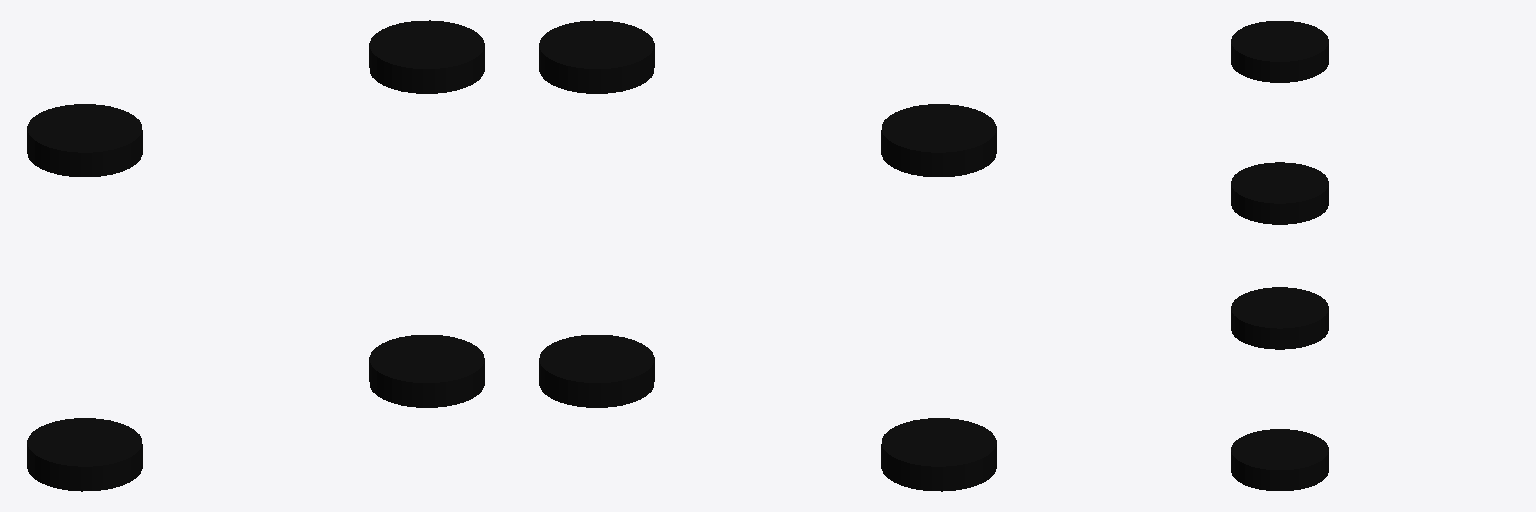
URDF robot description (only_mobile):
<?xml version="1.0"?>
<robot name="only_mobile">
  <link name="base_mobile">
    <inertial>
      <origin xyz="-0.029734 4.7404E-06 -0.49328" rpy="0 0 0"/>
      <mass value="770.04"/>
      <inertia ixx="44.031" ixy="-0.0029331" ixz="-4.071E-10" iyy="144.4" iyz="1.043E-05" izz="134.59"/>
    </inertial>
    <visual>
      <origin xyz="0 0 0" rpy="3.14159265359 0 0"/>
      <geometry>
        <mesh filename="../meshes/base_mobile.STL"/>
      </geometry>
      <material name="mobile_material_0">
        <color rgba="0.79216 0.81961 0.93333 1"/>
      </material>
    </visual>
    <collision>
      <origin xyz="0 0 0" rpy="3.14159265359 0 0"/>
      <geometry>
        <mesh filename="../meshes/base_mobile.STL"/>
      </geometry>
    </collision>
  </link>

  <!-- Kept byte-for-byte equivalent in properties to the latest wheel URDFs. -->
  <link name="front_left_wheel"><inertial><origin xyz="0 0 0"/><mass value="20"/><inertia ixx="0.776" ixy="0" ixz="0" iyy="0.776" iyz="0" izz="1.444"/></inertial><visual><geometry><cylinder radius="0.38" length="0.18"/></geometry><material name="wheel_black"><color rgba="0.08 0.08 0.08 1"/></material></visual><collision><geometry><cylinder radius="0.38" length="0.18"/></geometry></collision></link>
  <link name="front_right_wheel"><inertial><origin xyz="0 0 0"/><mass value="20"/><inertia ixx="0.776" ixy="0" ixz="0" iyy="0.776" iyz="0" izz="1.444"/></inertial><visual><geometry><cylinder radius="0.38" length="0.18"/></geometry><material name="wheel_black"/></visual><collision><geometry><cylinder radius="0.38" length="0.18"/></geometry></collision></link>
  <link name="rear_left_wheel"><inertial><origin xyz="0 0 0"/><mass value="20"/><inertia ixx="0.776" ixy="0" ixz="0" iyy="0.776" iyz="0" izz="1.444"/></inertial><visual><geometry><cylinder radius="0.38" length="0.18"/></geometry><material name="wheel_black"/></visual><collision><geometry><cylinder radius="0.38" length="0.18"/></geometry></collision></link>
  <link name="rear_right_wheel"><inertial><origin xyz="0 0 0"/><mass value="20"/><inertia ixx="0.776" ixy="0" ixz="0" iyy="0.776" iyz="0" izz="1.444"/></inertial><visual><geometry><cylinder radius="0.38" length="0.18"/></geometry><material name="wheel_black"/></visual><collision><geometry><cylinder radius="0.38" length="0.18"/></geometry></collision></link>

  <joint name="front_left_wheel_joint" type="continuous"><origin xyz="-1.30 -0.68 1.14"/><parent link="base_mobile"/><child link="front_left_wheel"/><axis xyz="0 0 1"/><limit effort="4000" velocity="20"/><dynamics damping="0.1" friction="0.01"/></joint>
  <joint name="front_right_wheel_joint" type="continuous"><origin xyz="-1.30 -0.68 -1.14"/><parent link="base_mobile"/><child link="front_right_wheel"/><axis xyz="0 0 1"/><limit effort="4000" velocity="20"/><dynamics damping="0.1" friction="0.01"/></joint>
  <joint name="rear_left_wheel_joint" type="continuous"><origin xyz="1.30 -0.68 1.14"/><parent link="base_mobile"/><child link="rear_left_wheel"/><axis xyz="0 0 1"/><limit effort="4000" velocity="20"/><dynamics damping="0.1" friction="0.01"/></joint>
  <joint name="rear_right_wheel_joint" type="continuous"><origin xyz="1.30 -0.68 -1.14"/><parent link="base_mobile"/><child link="rear_right_wheel"/><axis xyz="0 0 1"/><limit effort="4000" velocity="20"/><dynamics damping="0.1" friction="0.01"/></joint>
</robot>

--- Facts derived from the render (not from the file) ---
3 views of the same robot in one strip: view 1: azimuth 30°, elevation 25°; view 2: azimuth 150°, elevation 25°; view 3: azimuth 270°, elevation 25° (orthographic).
Robot: only_mobile — 5 links, 4 joints (4 continuous); root link base_mobile; default pose: every joint at zero.
Links seen in each view (by area): view 1: front_right_wheel, rear_left_wheel, front_left_wheel, rear_right_wheel; view 2: front_right_wheel, rear_left_wheel, front_left_wheel, rear_right_wheel; view 3: front_right_wheel, rear_left_wheel, front_left_wheel, rear_right_wheel.
Link boxes in pixels (<box>): front_right_wheel: <box>27,418,142,491</box>; rear_left_wheel: <box>369,20,484,93</box>; front_left_wheel: <box>27,104,142,176</box>; rear_right_wheel: <box>369,335,484,407</box>; front_right_wheel: <box>881,418,996,491</box>; rear_left_wheel: <box>539,20,654,93</box>; front_left_wheel: <box>881,104,996,176</box>; rear_right_wheel: <box>539,335,654,407</box>; front_right_wheel: <box>1231,287,1328,349</box>; rear_left_wheel: <box>1231,162,1328,224</box>; front_left_wheel: <box>1231,21,1328,82</box>; rear_right_wheel: <box>1231,429,1328,490</box>.
Bounding box of the posed robot: 3.36 × 0.76 × 2.46 m (x, y, z).
0 mesh visuals loaded from 1 distinct referenced files (none loaded); not drawn: 1 (reference not matched to a file when rendering).
